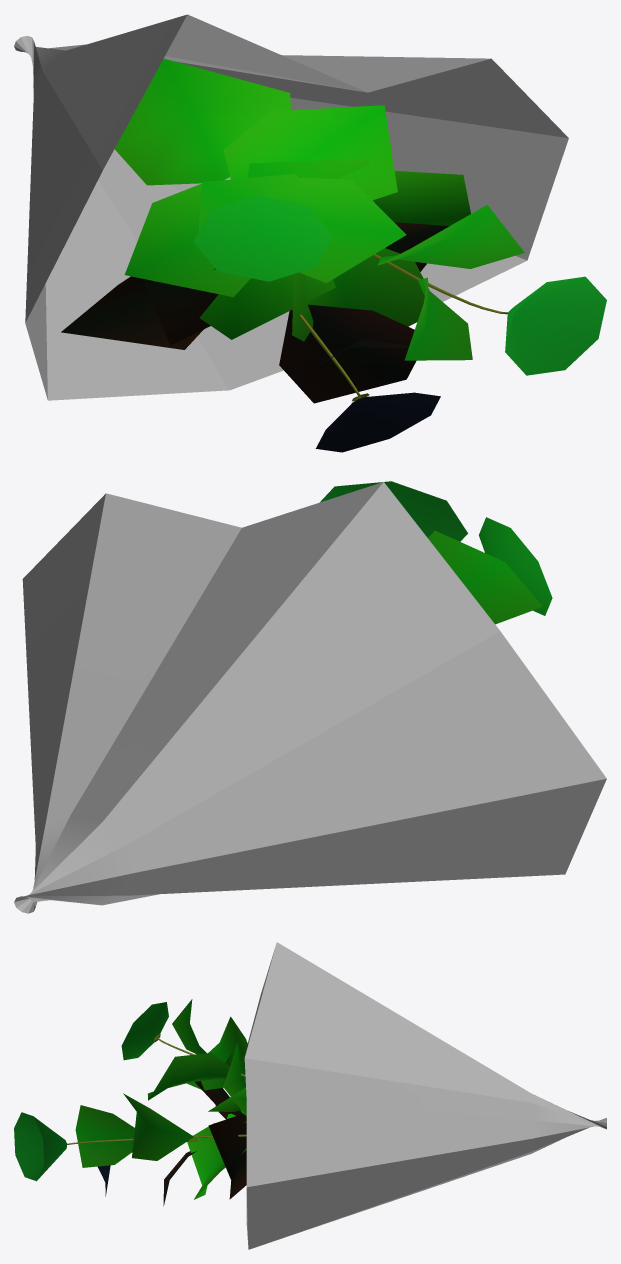
File: Bouquet.fbx
3 renders of one model, top to bottom at view 1: azimuth 30°, elevation 25°; view 2: azimuth 150°, elevation 25°; view 3: azimuth 270°, elevation 25°, orthographic. The views are drawn at different scales.
Visible parts, largest first — view 1: Wrap, Tree_1, Tree_0, Tree_2; view 2: Wrap, Tree_0, Tree_1; view 3: Wrap, Tree_1, Tree_0.
Boxes of the visible parts, bbox=[...] form: Wrap: bbox=[14, 14, 568, 400]; Tree_1: bbox=[61, 58, 524, 403]; Tree_0: bbox=[193, 195, 606, 452]; Tree_2: bbox=[292, 254, 508, 401]; Wrap: bbox=[14, 482, 606, 913]; Tree_0: bbox=[320, 481, 552, 615]; Tree_1: bbox=[428, 530, 542, 624]; Wrap: bbox=[244, 942, 606, 1249]; Tree_1: bbox=[75, 999, 247, 1206]; Tree_0: bbox=[14, 1002, 168, 1196].
Size of the model in its own units: 28.24 by 18.07 by 40.19.
